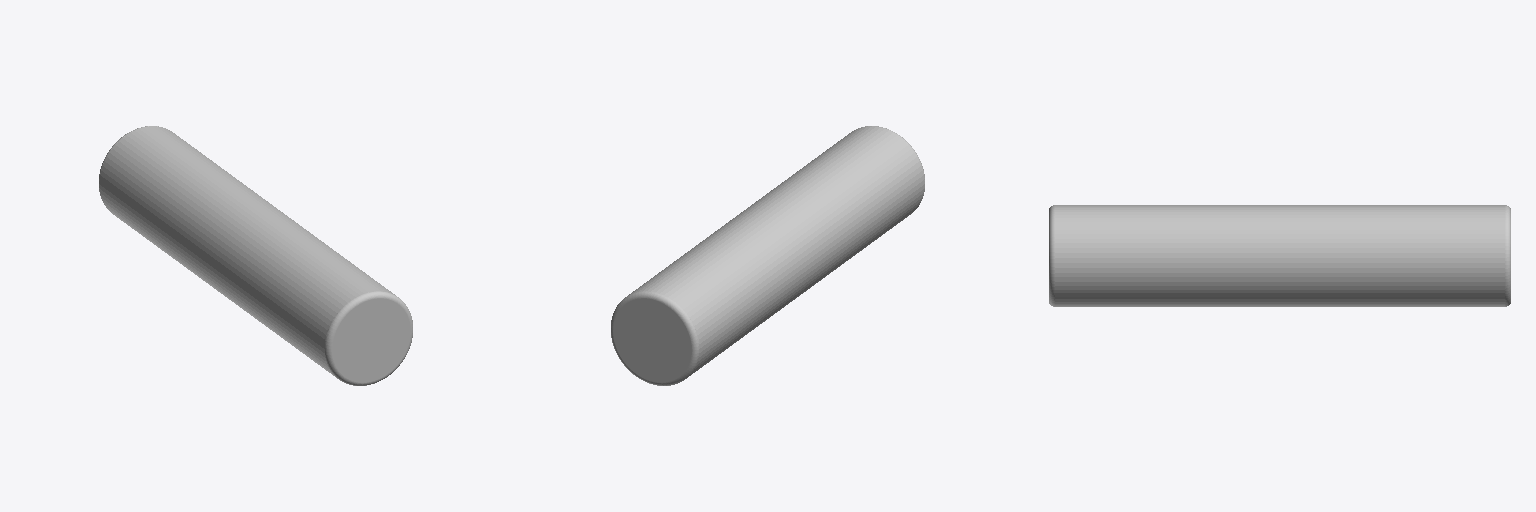
Rendered from cylinder_long_convex.obj.
3 renders of one model, left to right at view 1: azimuth 30°, elevation 25°; view 2: azimuth 150°, elevation 25°; view 3: azimuth 270°, elevation 25°, orthographic.
Bounding box in the file's own units: 13.97 × 13.97 × 63.5.